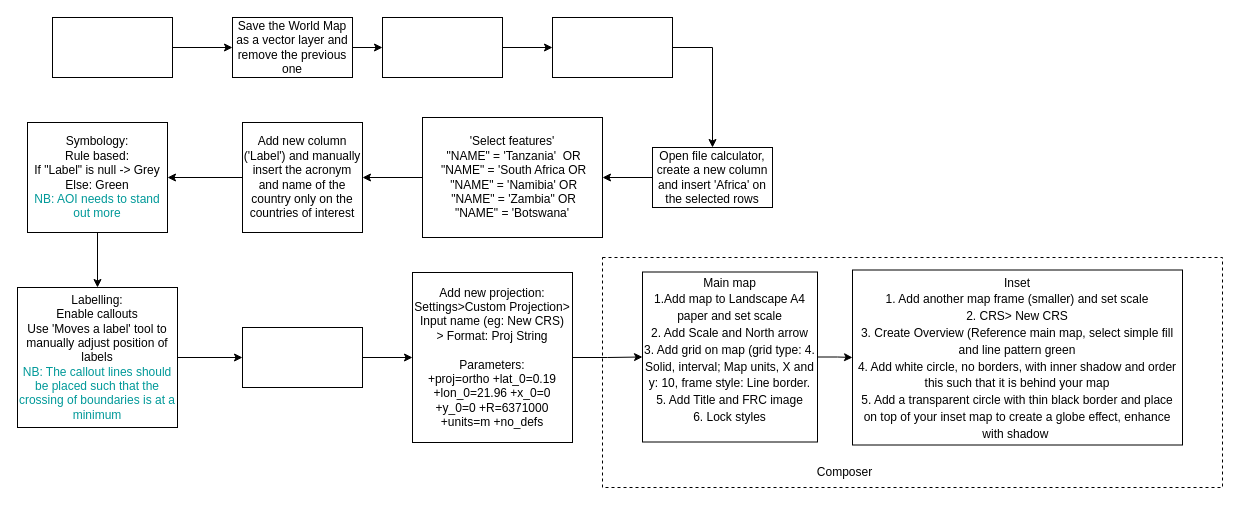
The diagram is 1240 pixels wide and 505 high, and some of its shapes have lost their labels. The shapes that lost their labels are listed below. From the top down, each one's centre as x and y in pixels, then its label:
At point (112, 47): "Type 'World Map' on coordinates".
At point (442, 47): "Select countries in Africa (allow toggle edit)".
At point (612, 47): "Correct digitizing errors".
At point (302, 357): "Change projection of map to Africa Lambert Conformal Conic".
